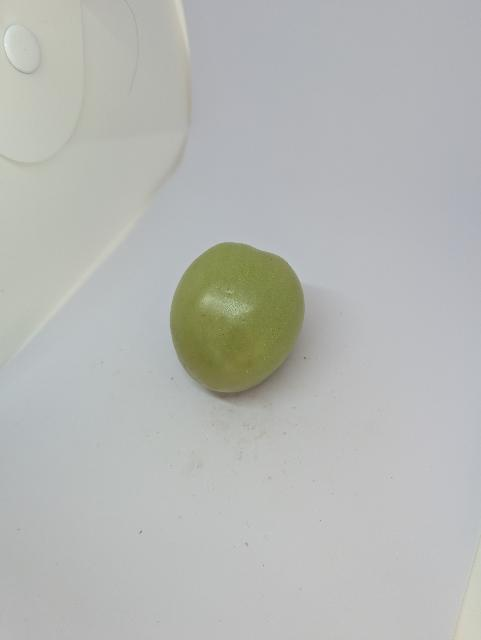green: (164, 231, 317, 412)
